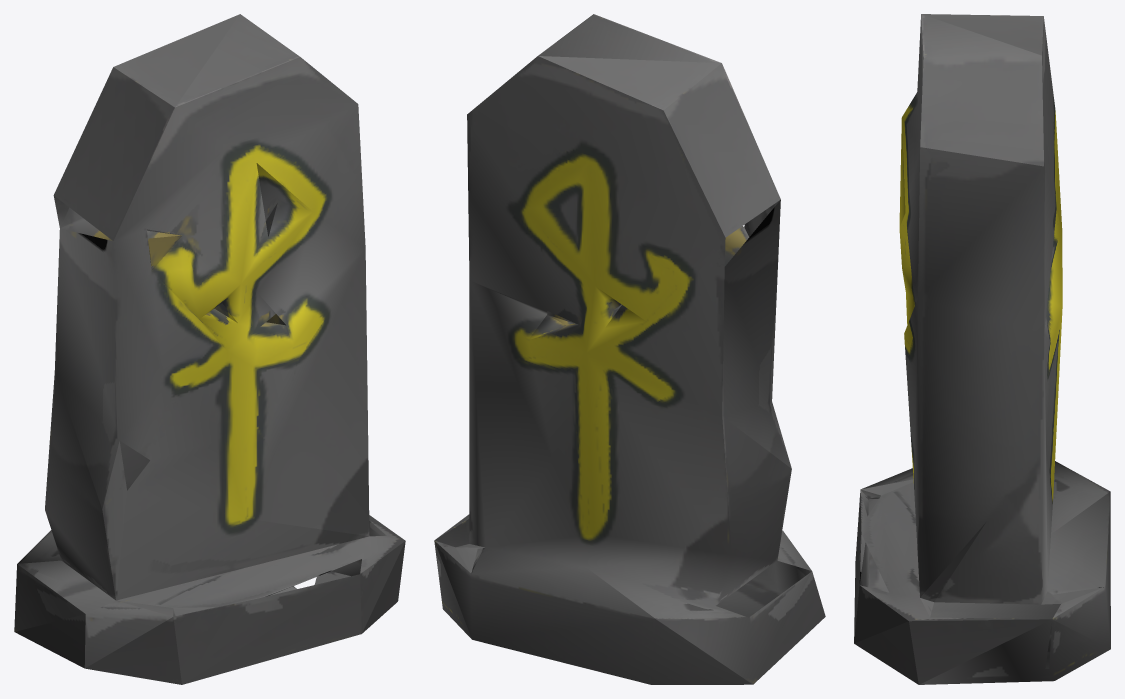
Rendered from elder-rune-stone.glb.
3 renders of one model, left to right at view 1: azimuth 30°, elevation 25°; view 2: azimuth 150°, elevation 25°; view 3: azimuth 270°, elevation 25°, orthographic. The views are drawn at different scales.
Visible parts, largest first — view 1: geometry_0.001; view 2: geometry_0.001; view 3: geometry_0.001.
Boxes of the visible parts, x1,y1,x2,y2 form: geometry_0.001: (14, 14, 405, 684); geometry_0.001: (434, 14, 825, 684); geometry_0.001: (854, 14, 1110, 684).
Size of the model in its own units: 0.591 by 0.9997 by 0.3996.
1 material, 1 textured.
